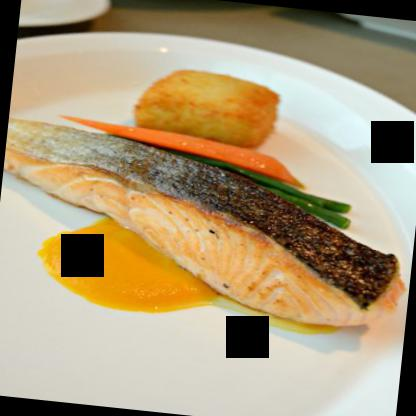salmon: (0, 111, 411, 335)
